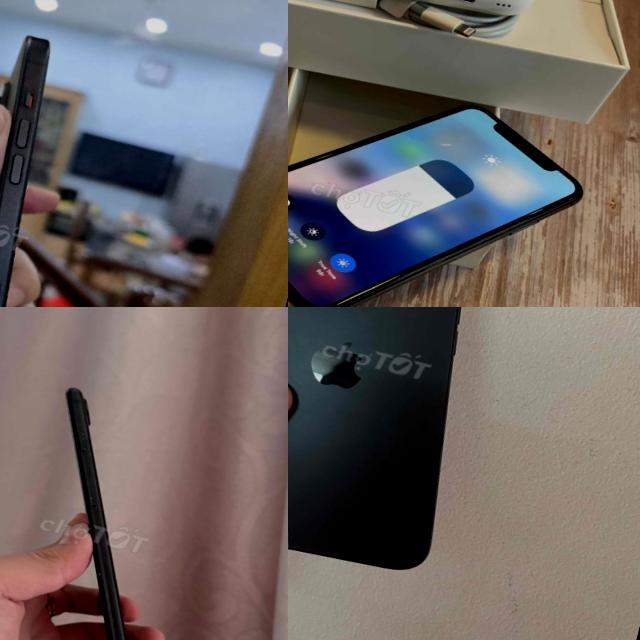gen_15: (288, 307, 521, 597), (0, 20, 101, 307)
gen_7_8: (0, 379, 210, 640)
gen_x_xs: (288, 43, 598, 307)
scratch: (78, 568, 138, 640), (68, 424, 96, 455), (86, 488, 97, 502)
